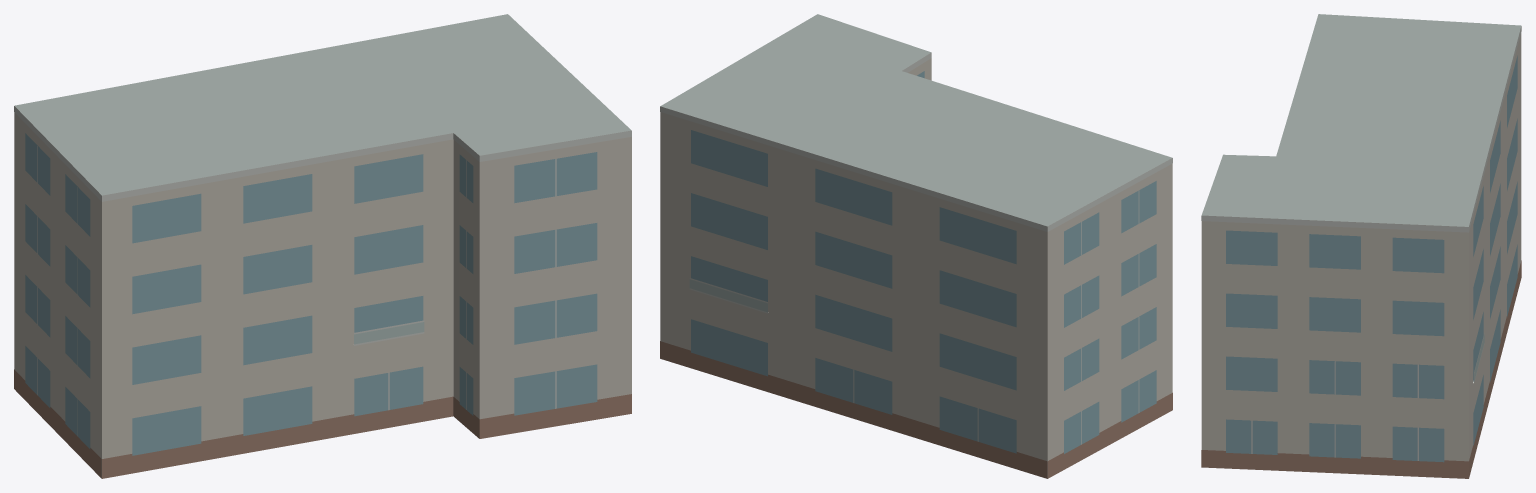
The model's file is survey-upis-32566771.glb.
The picture shows the model from 3 angles, left to right: view 1: azimuth 30°, elevation 25°; view 2: azimuth 150°, elevation 25°; view 3: azimuth 270°, elevation 25°; orthographic projection. The views are drawn at different scales.
Visible parts, largest first — view 1: survey-upis-32566771.tmp; view 2: survey-upis-32566771.tmp; view 3: survey-upis-32566771.tmp.
Boxes of the visible parts, x1=… form: survey-upis-32566771.tmp: x1=14, y1=14, x2=631, y2=478; survey-upis-32566771.tmp: x1=660, y1=14, x2=1172, y2=478; survey-upis-32566771.tmp: x1=1201, y1=14, x2=1521, y2=478.
Size of the model in its own units: 19.95 by 11 by 12.67.
